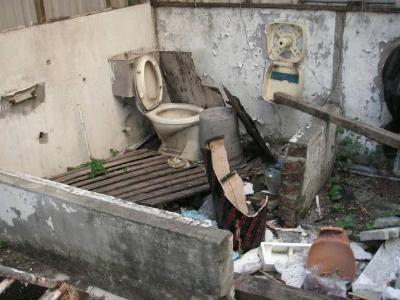bucket: (199, 105, 243, 168)
toilet: (108, 47, 208, 164)
